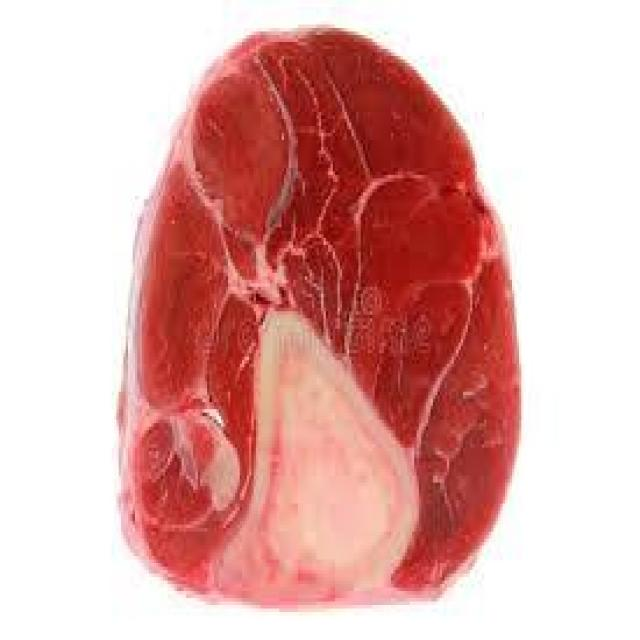beef: (111, 14, 527, 311)
